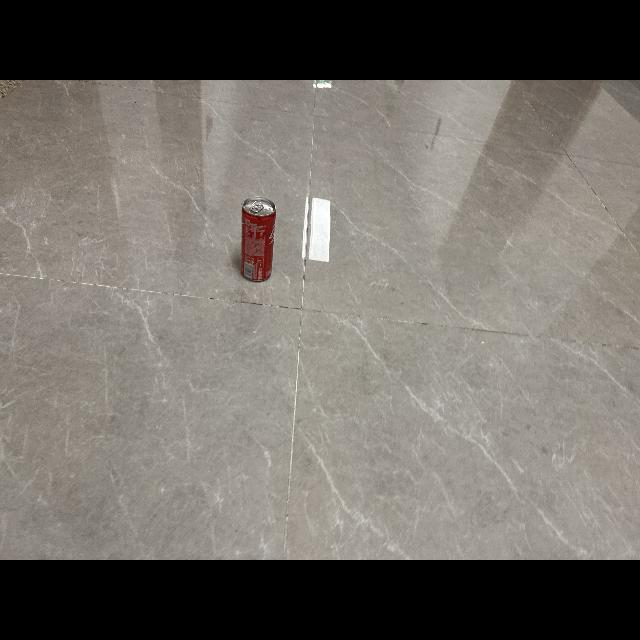Cola: (234, 193, 282, 287)
